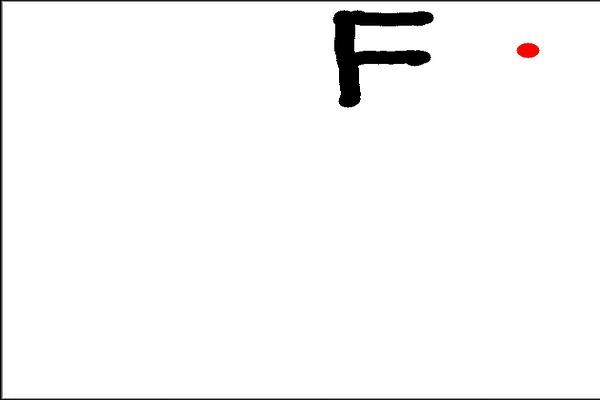F: (325, 5, 433, 111)
